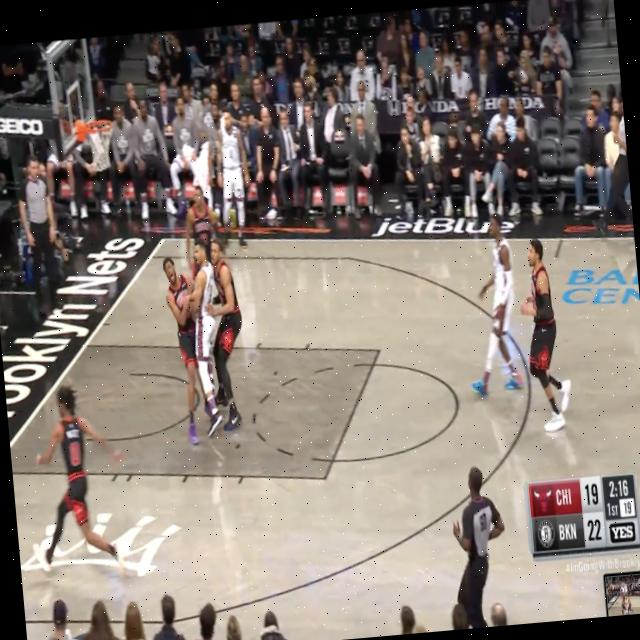foul: (136, 232, 258, 441)
no foul: (442, 192, 595, 449)
